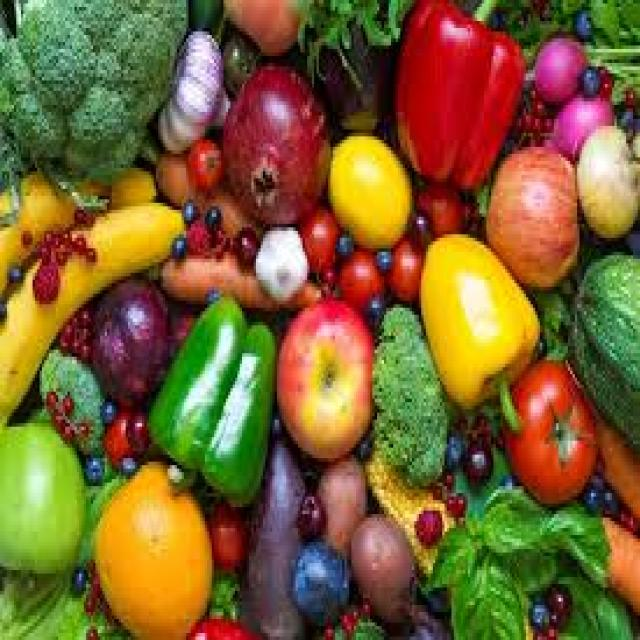organic waste: (0, 0, 638, 637), (0, 0, 189, 210), (0, 199, 179, 420), (0, 402, 126, 637), (144, 286, 277, 504), (140, 133, 318, 294), (390, 0, 521, 185), (419, 230, 538, 427), (89, 454, 214, 636), (0, 164, 151, 304), (221, 59, 324, 220), (274, 294, 368, 458), (240, 409, 307, 637), (566, 248, 638, 451), (282, 0, 391, 133), (528, 227, 631, 364), (370, 301, 445, 486), (500, 356, 596, 496), (482, 144, 577, 284), (0, 419, 81, 577), (521, 0, 638, 105), (361, 448, 456, 577), (307, 0, 393, 129), (326, 126, 412, 252), (88, 272, 170, 398), (151, 24, 233, 144), (147, 252, 321, 304), (349, 507, 419, 626), (296, 0, 402, 77), (217, 0, 300, 91), (575, 119, 638, 238), (35, 343, 100, 458), (582, 388, 638, 514), (552, 552, 628, 636), (452, 552, 522, 636), (312, 448, 372, 542), (540, 503, 603, 588), (288, 535, 346, 619), (495, 0, 572, 59), (452, 440, 509, 518), (540, 94, 614, 154), (421, 514, 475, 588), (596, 507, 638, 602), (477, 486, 540, 549), (254, 224, 305, 301), (533, 31, 584, 98), (204, 496, 247, 566), (382, 228, 421, 304), (100, 402, 142, 472), (414, 178, 468, 231), (335, 245, 379, 301), (300, 196, 335, 266), (186, 605, 258, 637), (512, 552, 568, 588), (186, 136, 221, 192), (25, 235, 56, 298), (402, 602, 452, 636), (317, 612, 384, 637), (207, 567, 242, 612), (165, 300, 196, 350), (442, 437, 473, 479), (296, 490, 324, 535), (414, 574, 445, 612), (586, 0, 616, 38), (544, 577, 568, 623), (412, 507, 440, 539), (232, 224, 254, 262), (363, 290, 384, 329), (466, 437, 486, 476), (186, 0, 218, 24), (572, 4, 594, 38), (126, 409, 144, 448), (184, 217, 209, 245), (475, 178, 491, 220), (440, 430, 461, 462), (616, 0, 637, 31), (81, 448, 102, 479), (410, 210, 430, 241), (614, 504, 636, 532), (582, 483, 598, 521), (470, 409, 487, 444), (95, 392, 114, 423), (612, 102, 633, 130), (114, 448, 135, 476), (580, 66, 598, 95), (316, 256, 333, 284), (372, 241, 391, 266), (526, 595, 545, 619), (463, 196, 482, 220), (335, 227, 352, 252), (335, 608, 354, 630), (65, 231, 82, 252), (600, 486, 614, 511), (500, 472, 519, 490), (516, 105, 530, 129), (356, 430, 368, 458), (491, 420, 503, 448), (86, 560, 98, 588), (70, 567, 84, 591), (202, 283, 219, 301), (205, 203, 219, 224), (170, 231, 184, 252), (93, 186, 107, 207), (314, 280, 331, 297), (449, 490, 461, 514), (42, 388, 58, 406), (358, 591, 368, 619), (540, 616, 556, 633), (79, 318, 91, 339), (51, 238, 63, 259), (535, 329, 545, 353), (454, 413, 468, 430), (49, 406, 63, 423), (32, 238, 46, 255), (4, 259, 18, 276), (82, 584, 93, 605), (430, 468, 438, 496), (324, 616, 335, 636), (179, 199, 191, 217), (598, 70, 608, 91), (345, 598, 356, 616), (68, 325, 79, 343), (77, 339, 88, 357), (49, 227, 60, 245), (526, 130, 540, 144), (526, 77, 535, 98), (68, 308, 79, 325), (538, 109, 552, 122), (82, 622, 95, 636), (214, 234, 224, 252), (58, 419, 70, 434), (531, 626, 547, 637), (74, 416, 82, 437), (58, 224, 70, 238), (624, 80, 633, 98), (528, 95, 540, 108), (589, 468, 600, 482), (591, 59, 605, 70), (226, 231, 235, 248), (79, 304, 89, 318), (84, 242, 93, 256), (63, 315, 70, 332), (84, 207, 93, 220), (444, 493, 452, 507), (56, 332, 65, 343), (440, 479, 447, 493), (61, 392, 68, 406), (42, 224, 49, 238), (21, 228, 28, 242), (70, 203, 79, 213), (212, 227, 219, 238), (0, 297, 2, 318), (531, 112, 535, 122)
